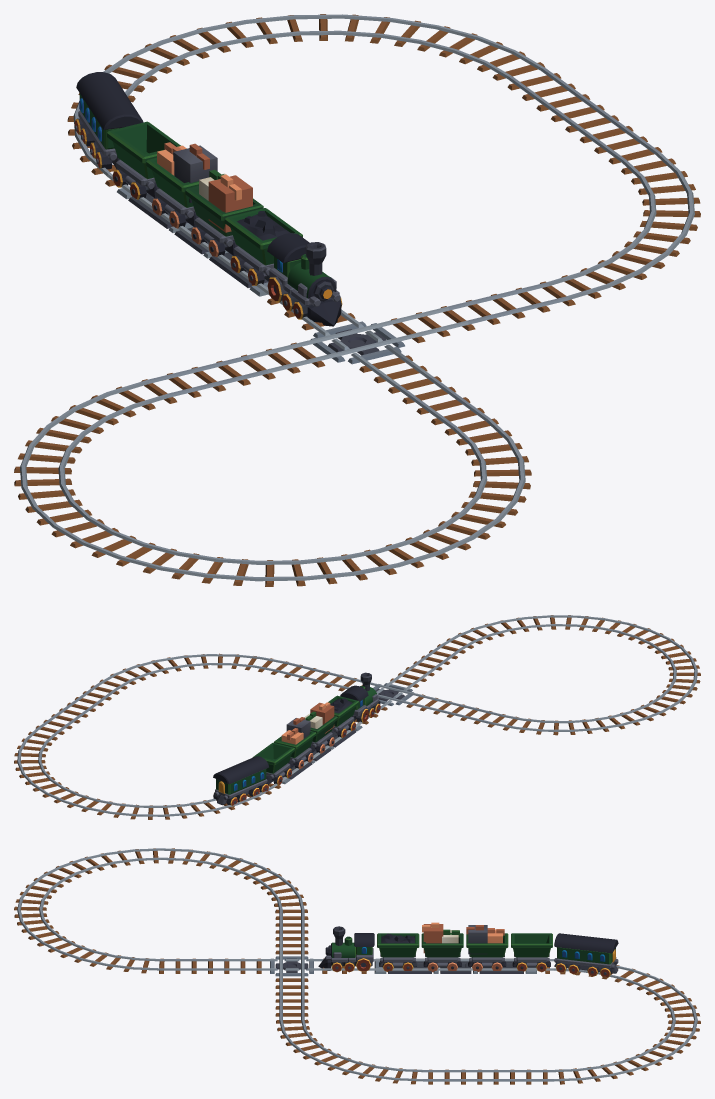
The model's file is train-track.glb.
3 renders of one model, top to bottom at view 1: azimuth 30°, elevation 25°; view 2: azimuth 150°, elevation 25°; view 3: azimuth 270°, elevation 25°, orthographic. The views are drawn at different scales.
Parts seen in each view (by area): view 1: train-track; view 2: train-track; view 3: train-track.
Boxes of the visible parts, x1,y1,x2,y2 form: train-track: (14,14,700,586); train-track: (14,615,700,819); train-track: (14,848,700,1084).
Bounding box in the file's own units: 2.55 × 0.2145 × 3.14.
Materials: 1 (1 with a texture image).
